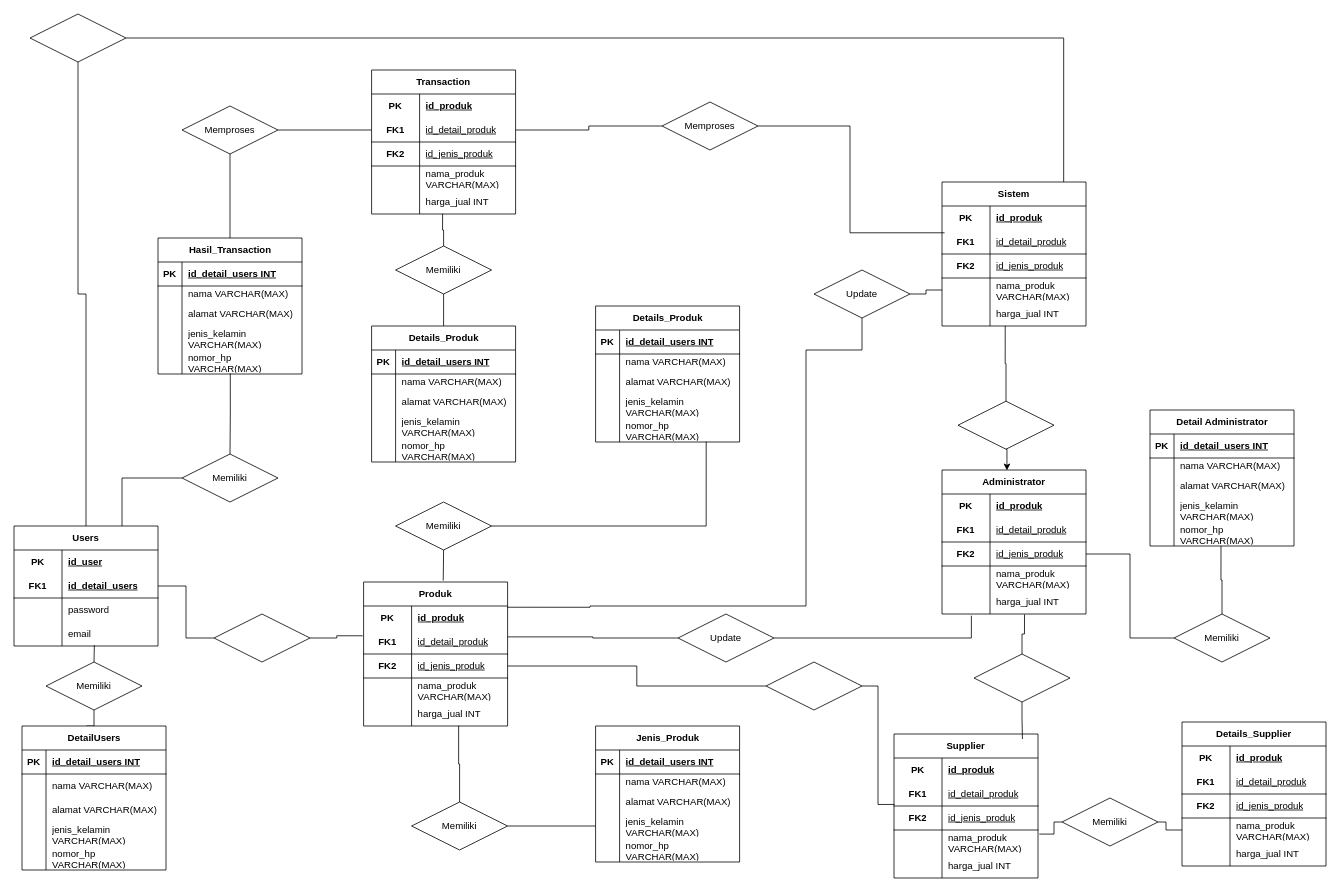
Some shapes in this 1340 by 892 pixel diagram are drawn without their labels. Each missing label, with the centre of its shape:
"Kerjasama" goes at point 1021,677.
"Memerintahkan" goes at point 1005,424.
"Memesan" goes at point 261,637.
"Supply" goes at point 813,685.
"Terhubung" goes at point 77,37.
